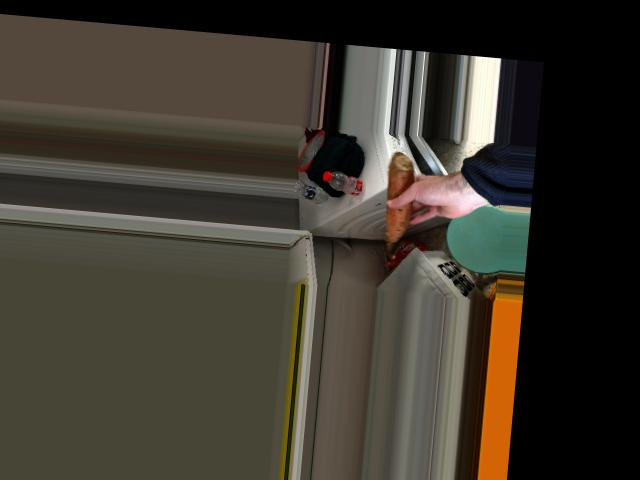sweet_potato: (383, 160, 416, 247)
